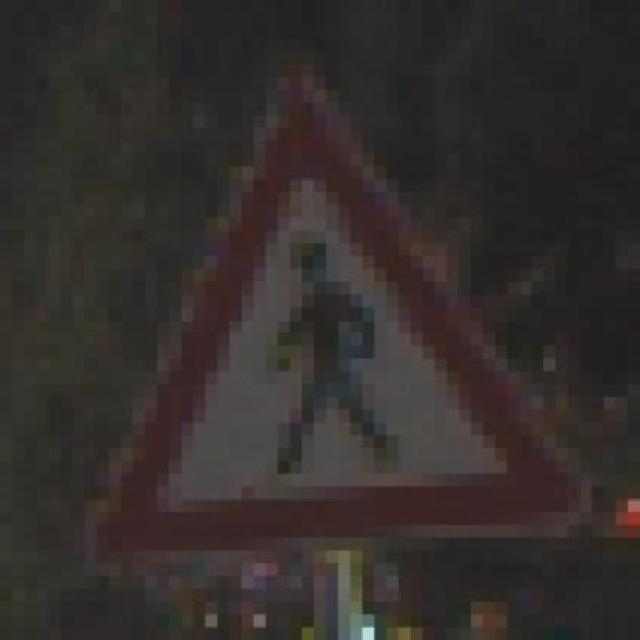Pedestrian Crossing: (65, 53, 597, 553)
